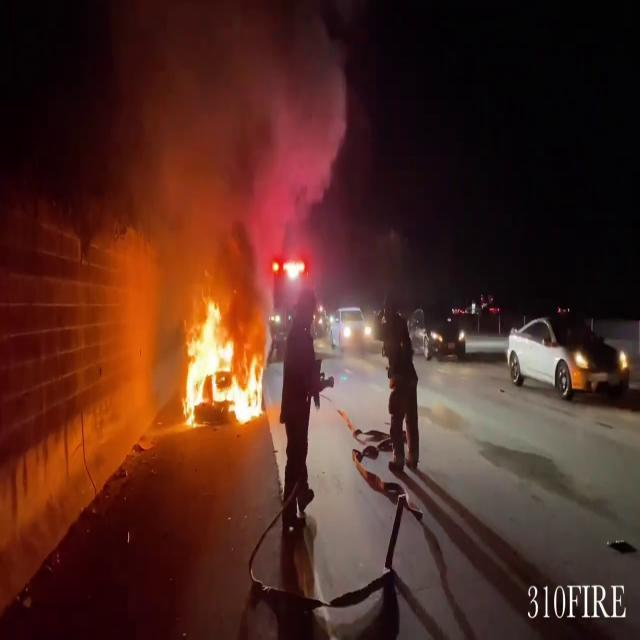Fire: (174, 293, 266, 429)
Smoke: (89, 0, 355, 284)
